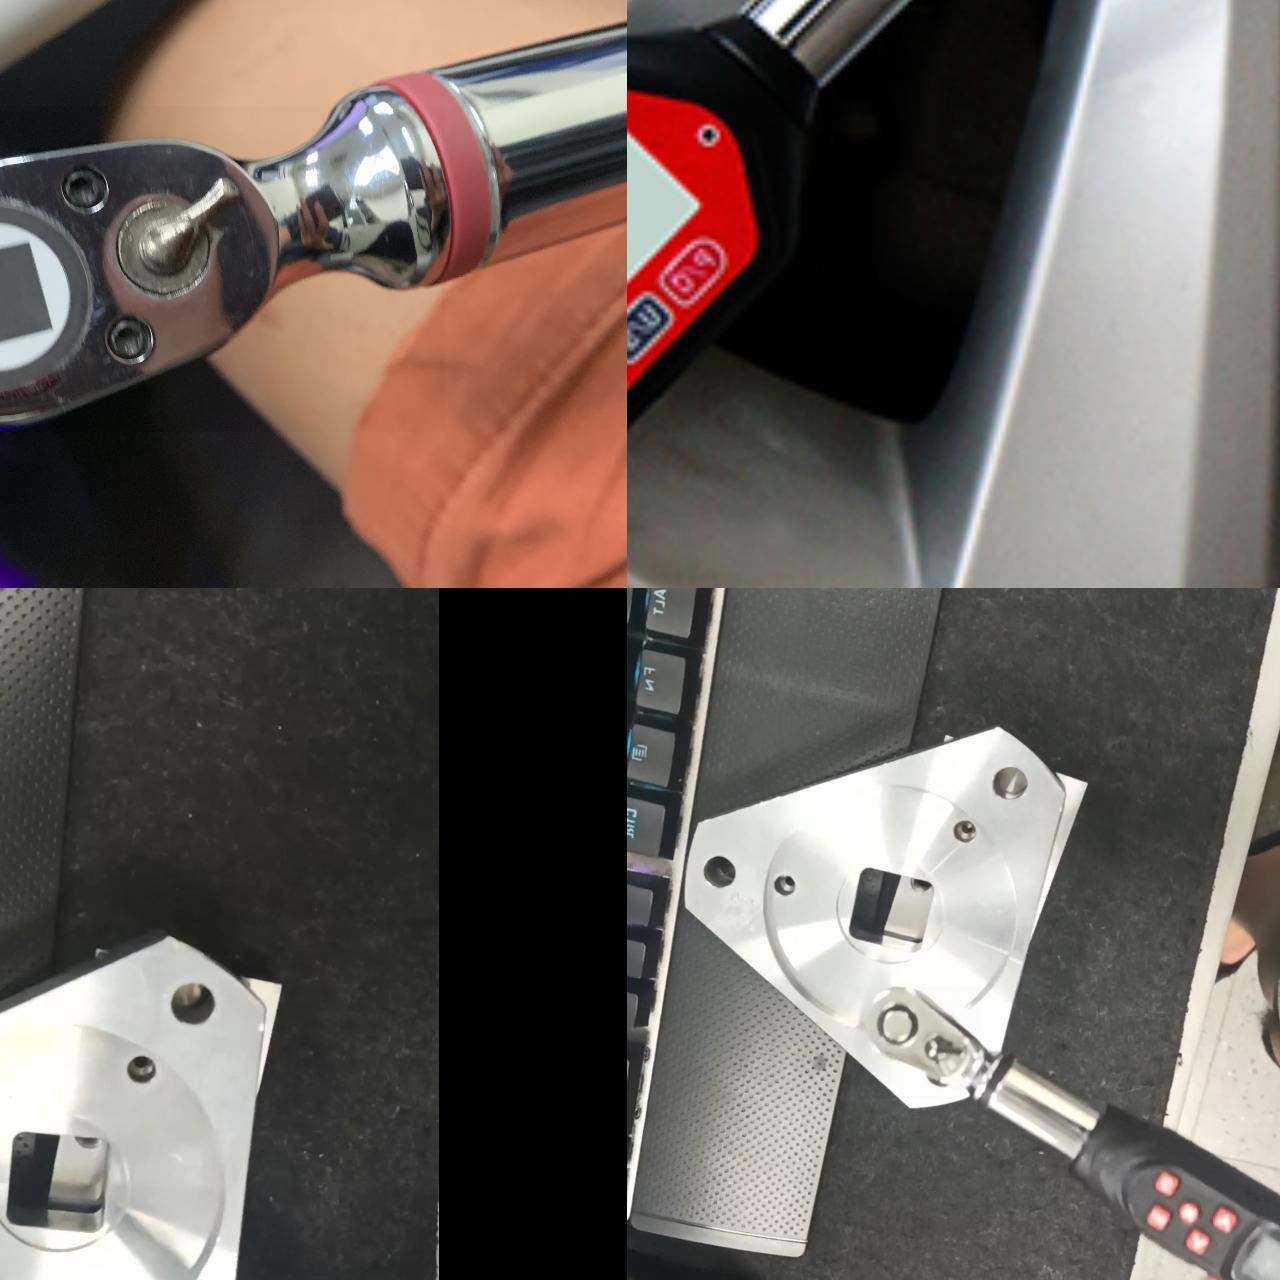Tool: (0, 105, 445, 431), (854, 986, 982, 1098)
